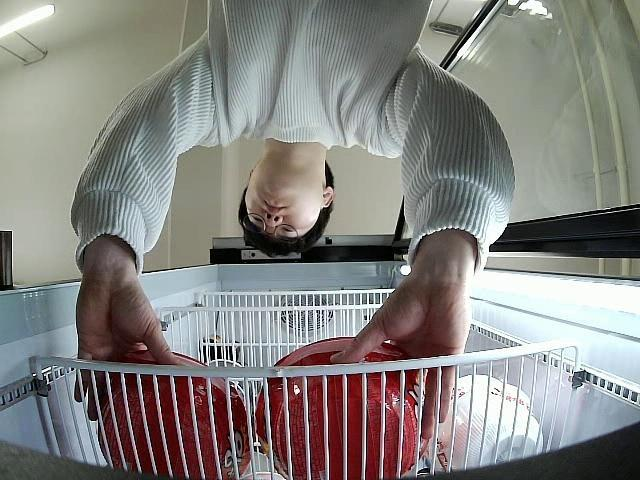10_wangTtukkeong: (255, 339, 428, 480), (98, 351, 252, 480)
